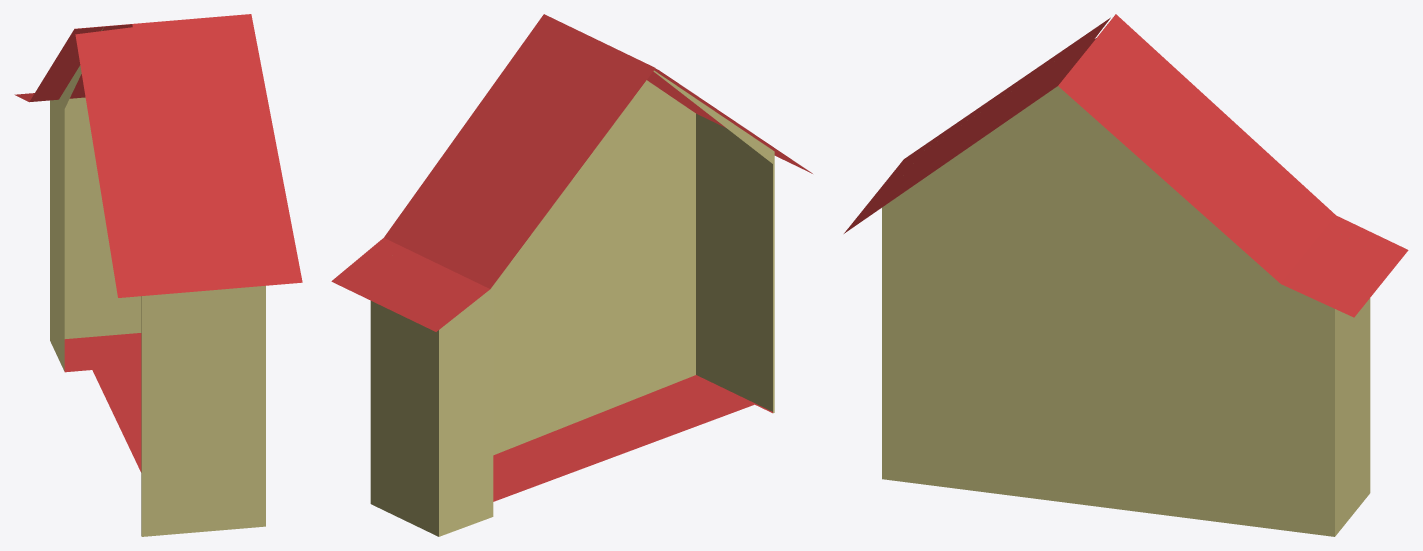
3 renders of one model, left to right at view 1: azimuth 30°, elevation 25°; view 2: azimuth 150°, elevation 25°; view 3: azimuth 270°, elevation 25°, orthographic. The views are drawn at different scales.
Size of the model in its own units: 10.98 by 18.7 by 15.66.
